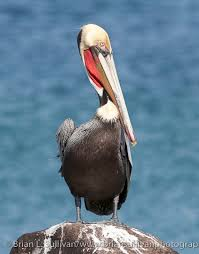pelican: (57, 24, 138, 224)
